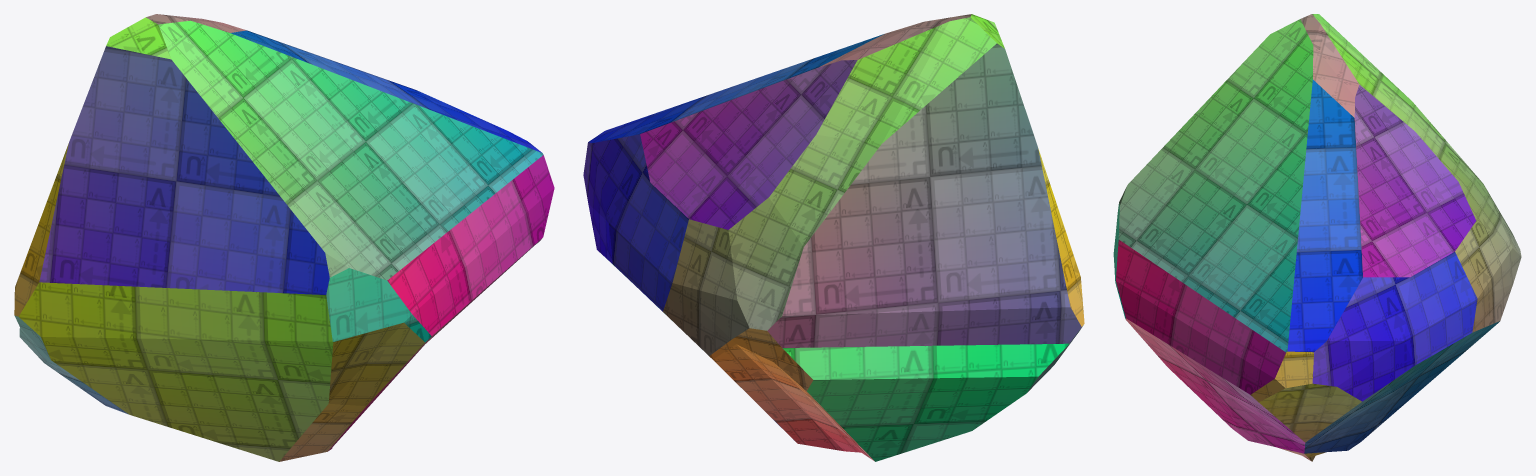
File: Rock5Redo_Hite.obj
3 renders of one model, left to right at view 1: azimuth 30°, elevation 25°; view 2: azimuth 150°, elevation 25°; view 3: azimuth 270°, elevation 25°, orthographic. The views are drawn at different scales.
Visible parts, largest first — view 1: pCube1; view 2: pCube1; view 3: pCube1.
Part boxes in pixels (bbox=[...]): pCube1: bbox=[14, 14, 554, 461]; pCube1: bbox=[583, 14, 1084, 461]; pCube1: bbox=[1113, 14, 1521, 461].
Size of the model in its own units: 18.48 by 15.9 by 15.34.
Materials: 1 (1 with a texture image).
